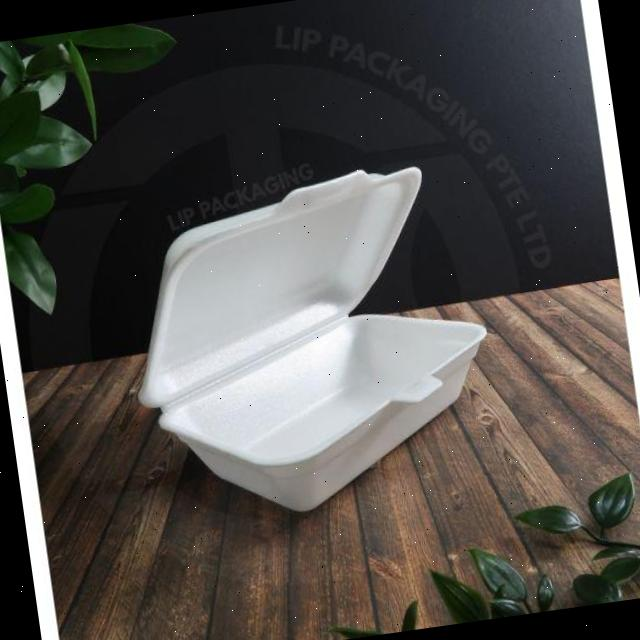styrofoam: (110, 152, 508, 533)
